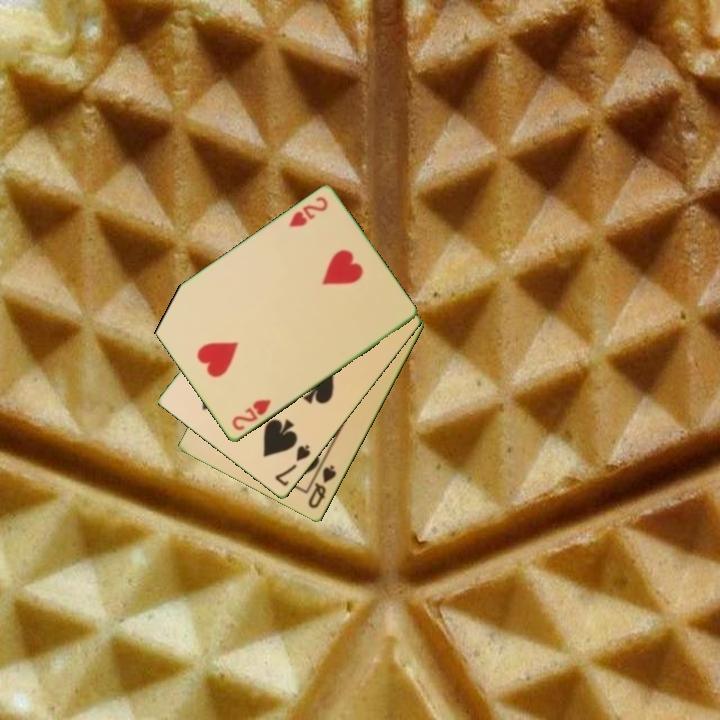2h: (228, 396, 274, 434), (285, 193, 331, 231)
7s: (271, 441, 314, 490)
Qs: (304, 462, 340, 512)
